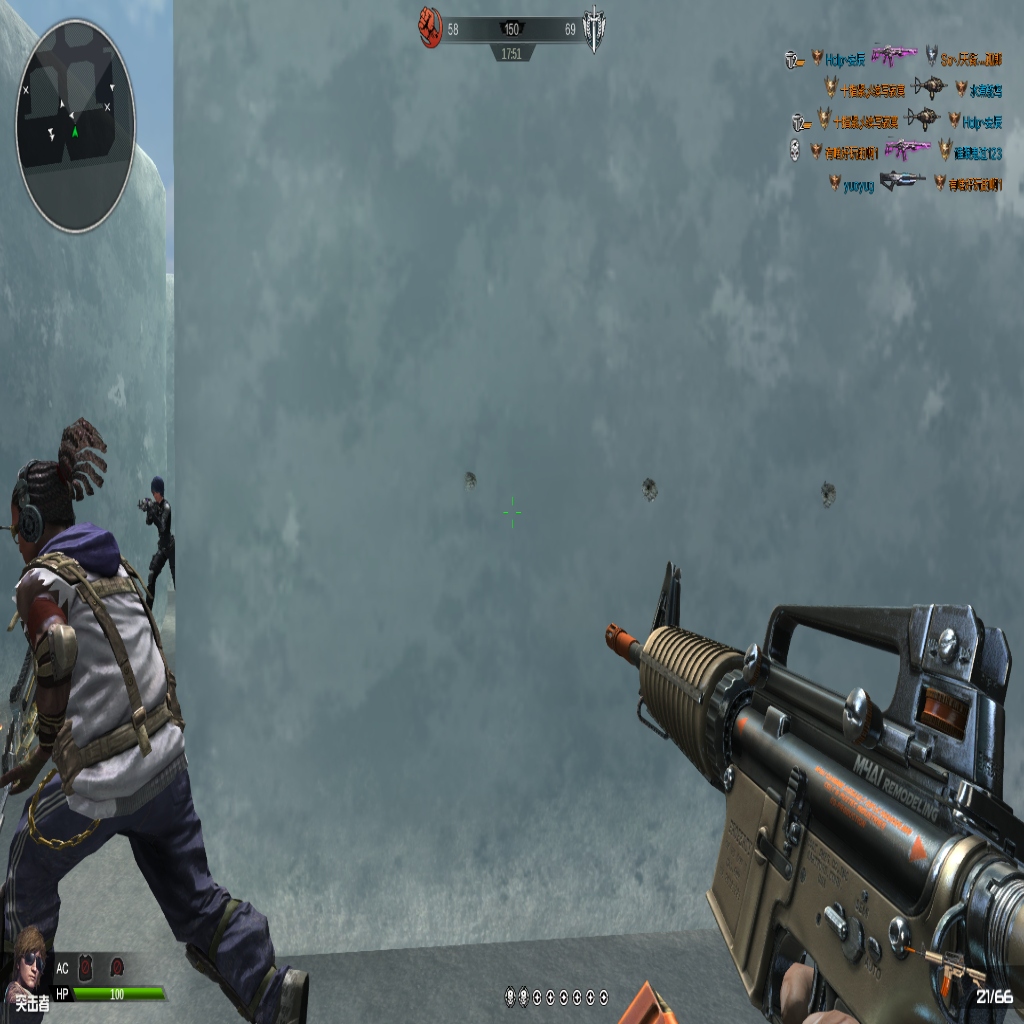ct: (137, 480, 177, 613)
